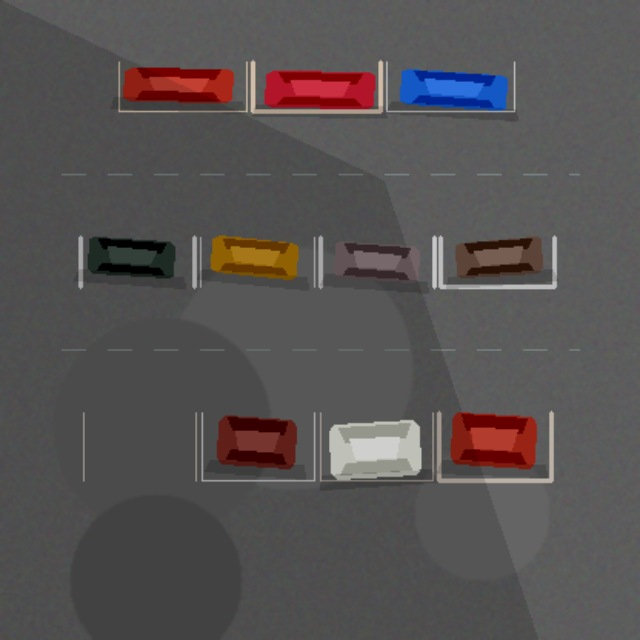space-empty: (83, 412, 195, 480)
space-occupied: (438, 412, 551, 480), (202, 412, 314, 480), (320, 412, 432, 480), (118, 62, 246, 111), (252, 62, 380, 111), (386, 62, 514, 111), (80, 237, 194, 286), (200, 237, 314, 286), (320, 237, 434, 286), (440, 237, 554, 286)
